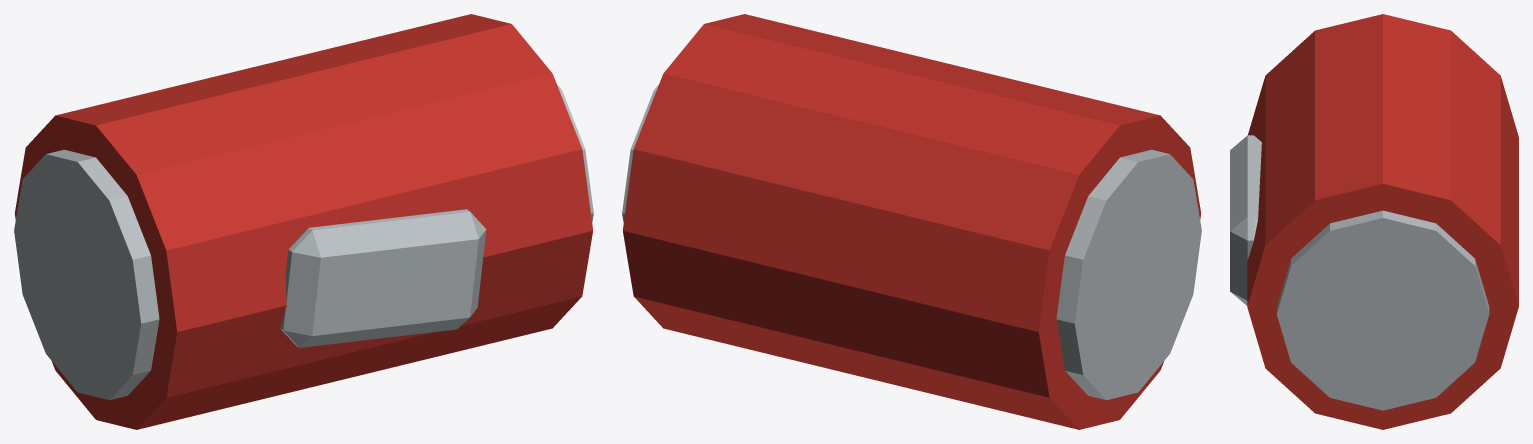
Rendered from CrushedColaCan.glb.
3 renders of one model, left to right at view 1: azimuth 30°, elevation 25°; view 2: azimuth 150°, elevation 25°; view 3: azimuth 270°, elevation 25°, orthographic. The views are drawn at different scales.
Visible parts, largest first — view 1: CrushedCanBody, CanBottom, CanDent; view 2: CrushedCanBody, CanBottom; view 3: CrushedCanBody, CanTop, CanDent.
Part boxes in pixels (x1,y1,x2,y2): CrushedCanBody: (14,14,593,429); CanBottom: (14,149,159,400); CanDent: (280,209,486,347); CrushedCanBody: (622,14,1201,429); CanBottom: (1056,149,1201,400); CrushedCanBody: (1247,14,1518,429); CanTop: (1276,210,1489,410); CanDent: (1230,135,1261,305).
Bounding box in the file's own units: 0.37 × 0.23 × 0.2445.
